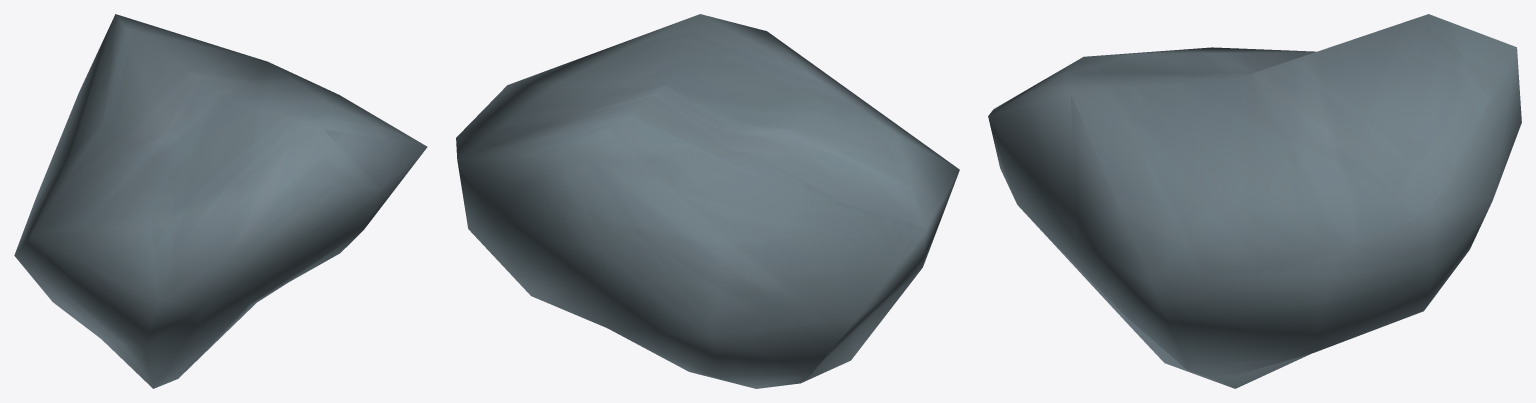
The model's file is Rock_02.fbx.
3 renders of one model, left to right at view 1: azimuth 30°, elevation 25°; view 2: azimuth 150°, elevation 25°; view 3: azimuth 270°, elevation 25°, orthographic. The views are drawn at different scales.
Parts seen in each view (by area): view 1: Rock_02; view 2: Rock_02; view 3: Rock_02.
Part boxes in pixels (left/top/right/bottom): Rock_02: left=14, top=14, right=427, bottom=388; Rock_02: left=456, top=14, right=959, bottom=388; Rock_02: left=988, top=14, right=1521, bottom=388.
Bounding box in the file's own units: 170 × 117 × 150.
